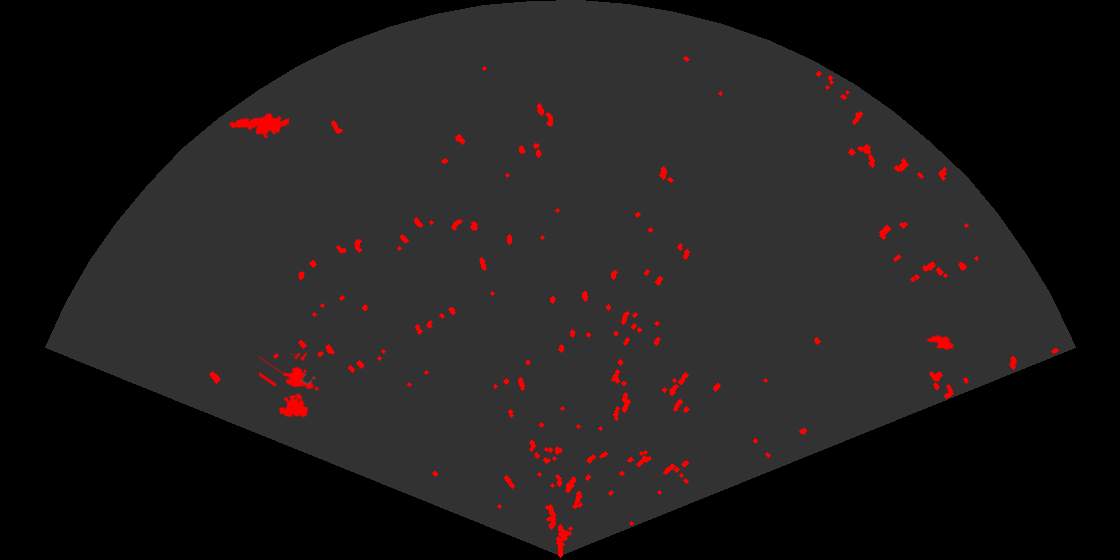AUV: (925, 333, 956, 352)
cage: (259, 353, 321, 419)
frogman: (227, 111, 289, 140)
